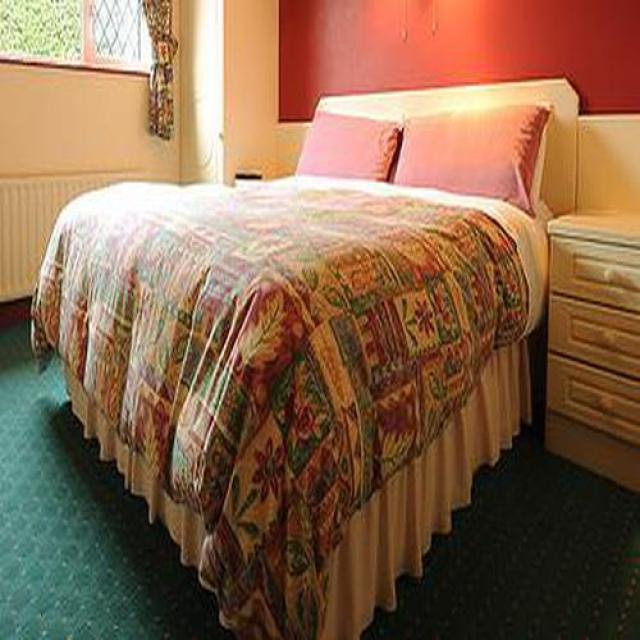bed: (31, 86, 558, 640)
